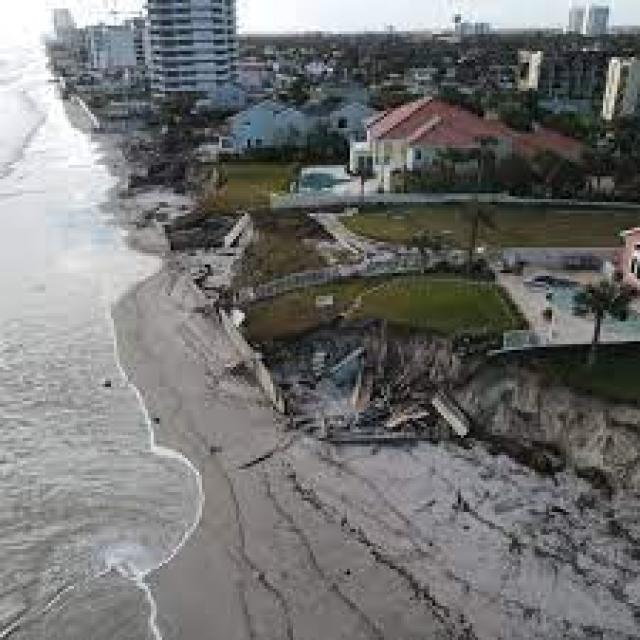Hurricane: (111, 179, 640, 629), (244, 289, 396, 303)
